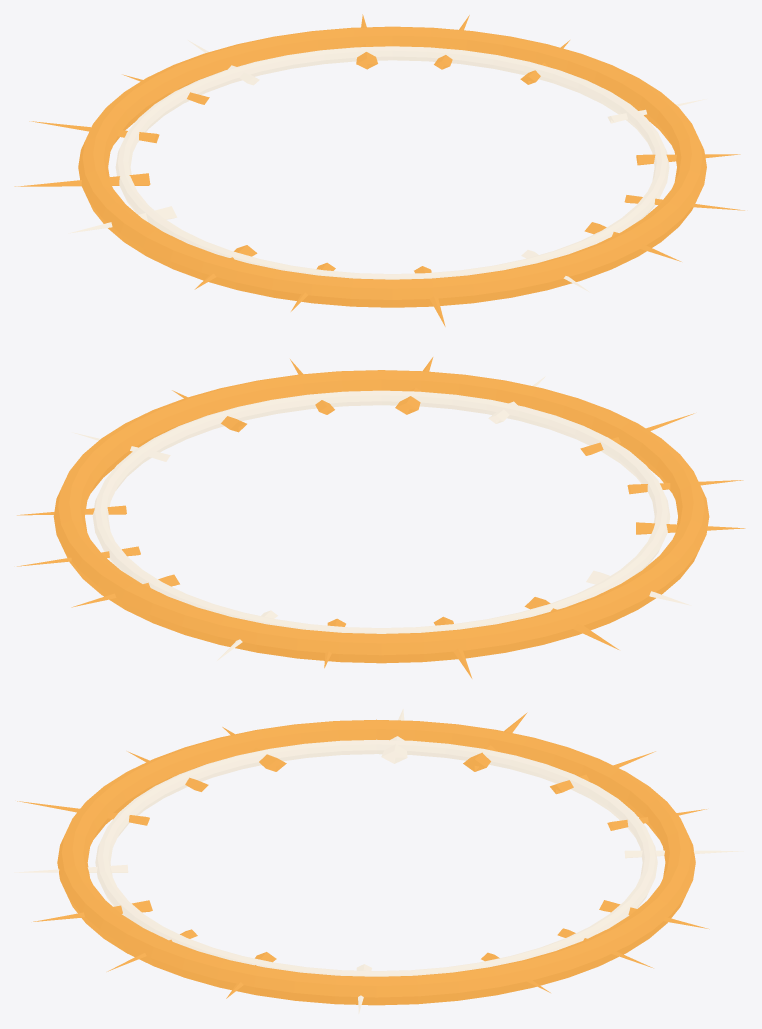
The model's file is rocket_shockwave.glb.
The picture shows the model from 3 angles, top to bottom: view 1: azimuth 30°, elevation 25°; view 2: azimuth 150°, elevation 25°; view 3: azimuth 270°, elevation 25°; orthographic projection. The views are drawn at different scales.
Visible parts, largest first — view 1: rocket_shockwave; view 2: rocket_shockwave; view 3: rocket_shockwave.
Part boxes in pixels (box(x1,y1,x2,y2)): rocket_shockwave: box(14, 14, 744, 326); rocket_shockwave: box(17, 357, 745, 678); rocket_shockwave: box(14, 709, 743, 1013).
Bounding box in the file's own units: 2.39 × 0.1 × 2.41.
